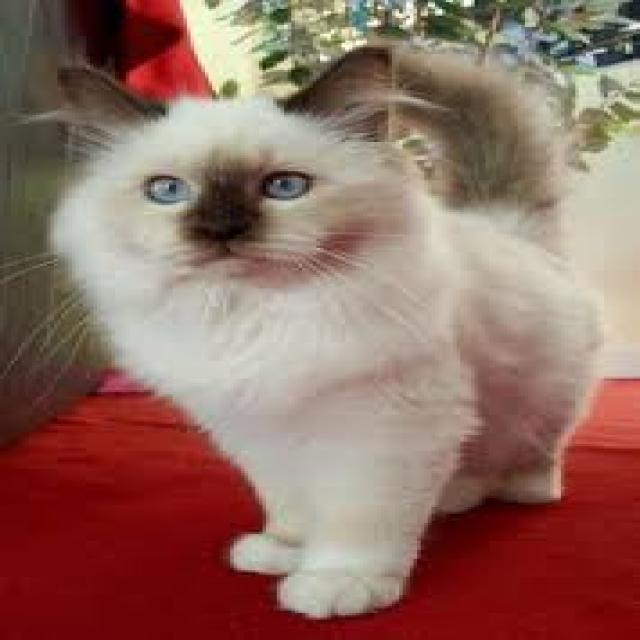Cat: (22, 34, 610, 623)
